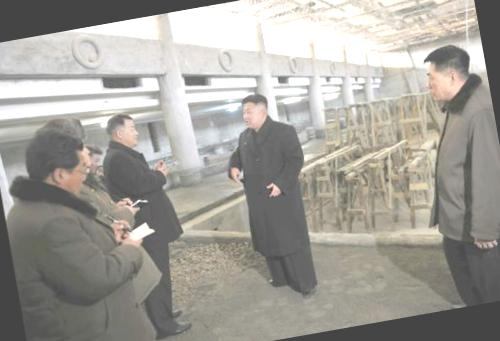no_helmet: (15, 113, 102, 204), (414, 38, 481, 108), (101, 108, 141, 154), (234, 89, 274, 133)
